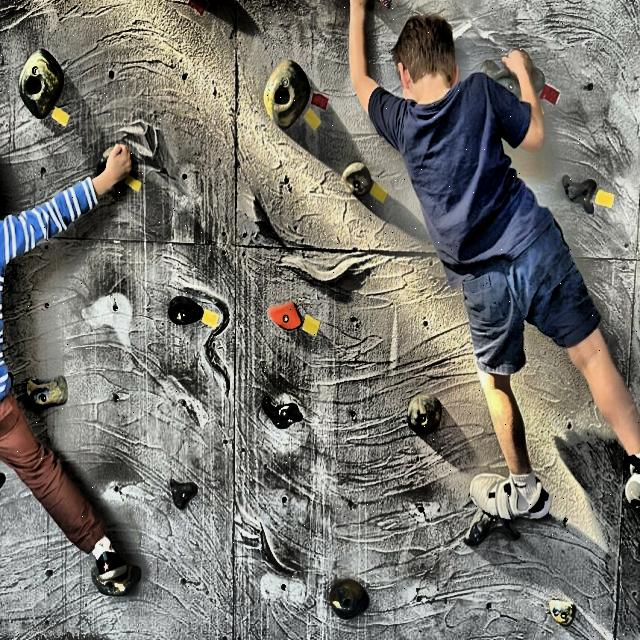Hold: (263, 59, 311, 129), (19, 48, 63, 118), (330, 580, 369, 619), (562, 174, 598, 213), (407, 394, 442, 434), (263, 396, 302, 429), (341, 161, 373, 196), (167, 296, 204, 325), (269, 301, 304, 331), (169, 480, 198, 509), (550, 600, 576, 628), (0, 471, 5, 489)
Unknown: (466, 510, 521, 547), (91, 566, 141, 597), (25, 376, 67, 409), (479, 58, 518, 92), (95, 147, 116, 177), (533, 66, 545, 94), (377, 0, 391, 8), (366, 0, 377, 10)
start_tag: (304, 107, 321, 131), (301, 316, 321, 336), (540, 85, 559, 104), (50, 107, 69, 126), (310, 91, 329, 110), (370, 182, 388, 202), (201, 308, 219, 327), (596, 190, 615, 207), (124, 174, 142, 191), (188, 0, 206, 14)
